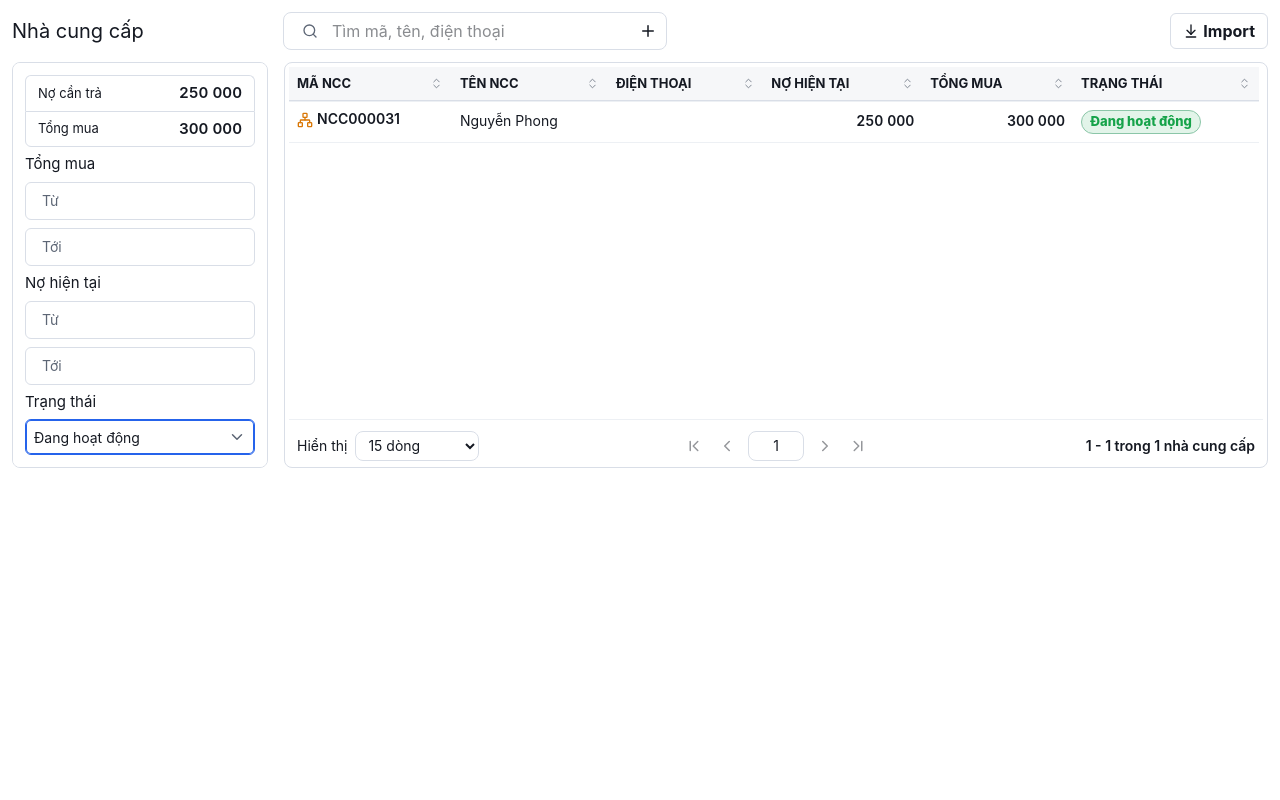
clears supplier payment draft when closing the selected row
Click the button "NCC000031" at (348, 120), box left=297, top=110, right=400, bottom=129
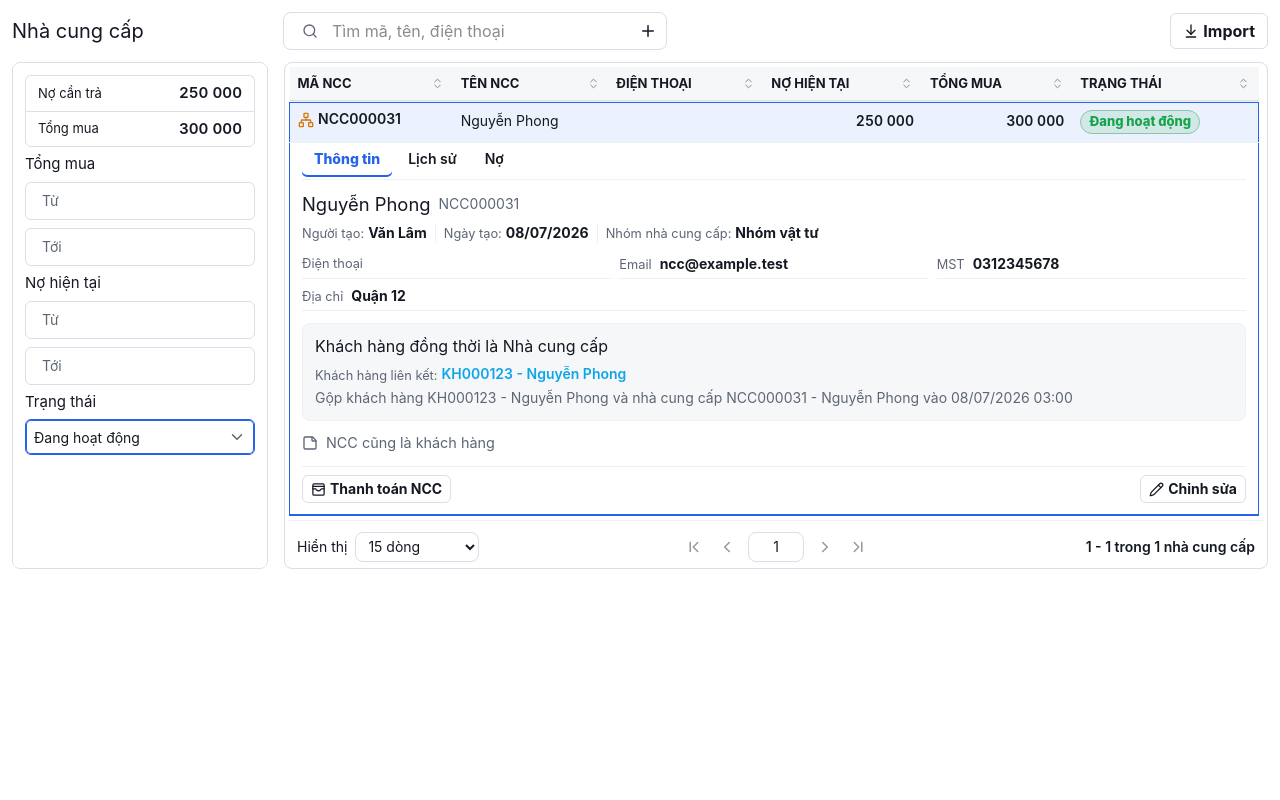
Click the button "Thanh toán NCC" at (377, 489), box left=302, top=475, right=451, bottom=503
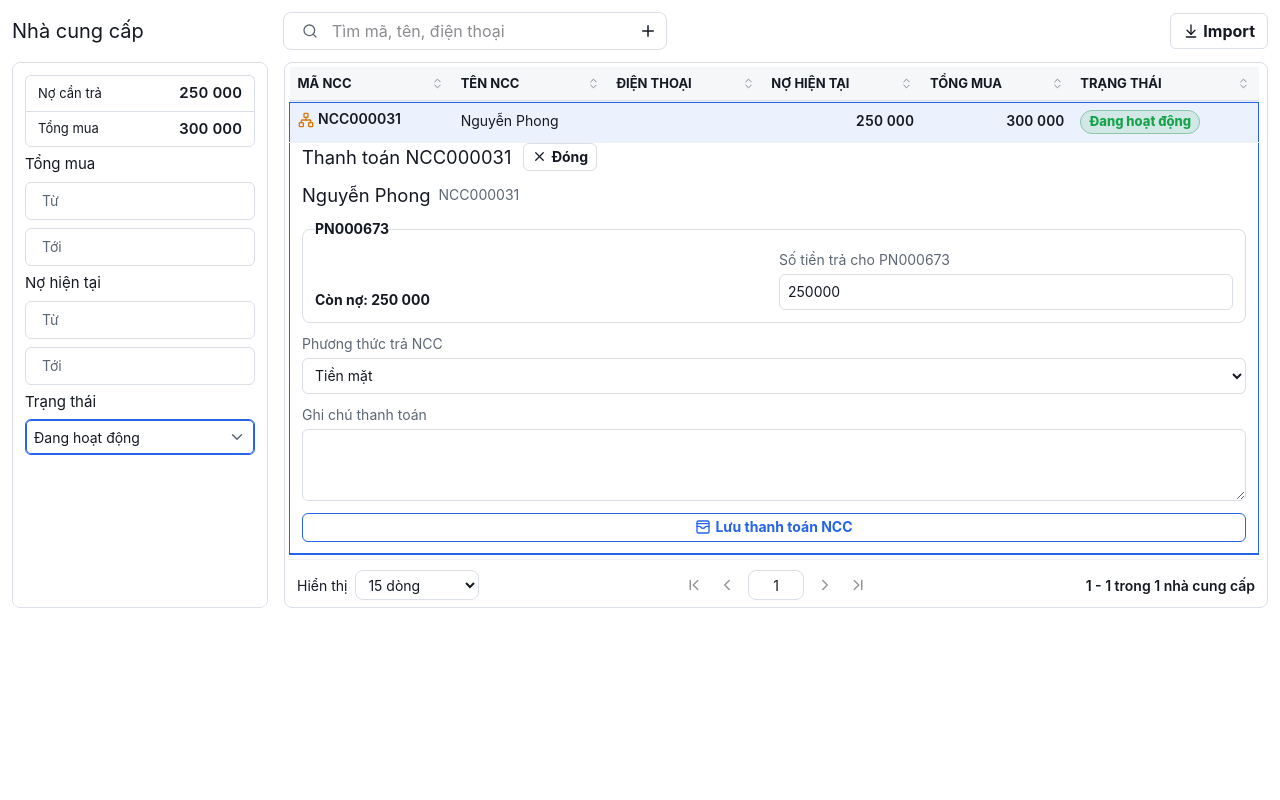
Now the button "Lưu thanh toán NCC" is shown, box left=302, top=513, right=1246, bottom=542
Click the button "NCC000031" at (350, 120), box left=298, top=110, right=401, bottom=129
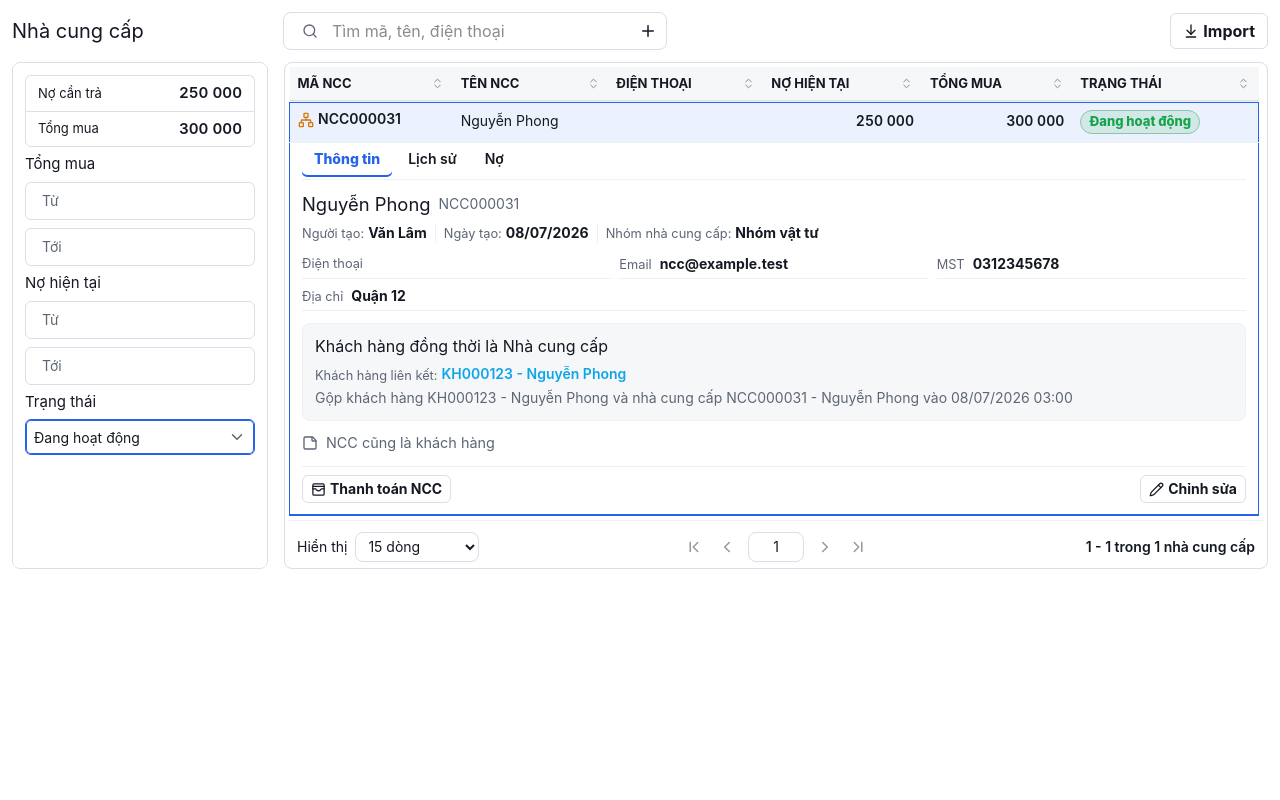
Now the button "Lưu thanh toán NCC" is gone
Now the text "NCC cũng là khách hàng" is shown, box left=302, top=434, right=495, bottom=451
